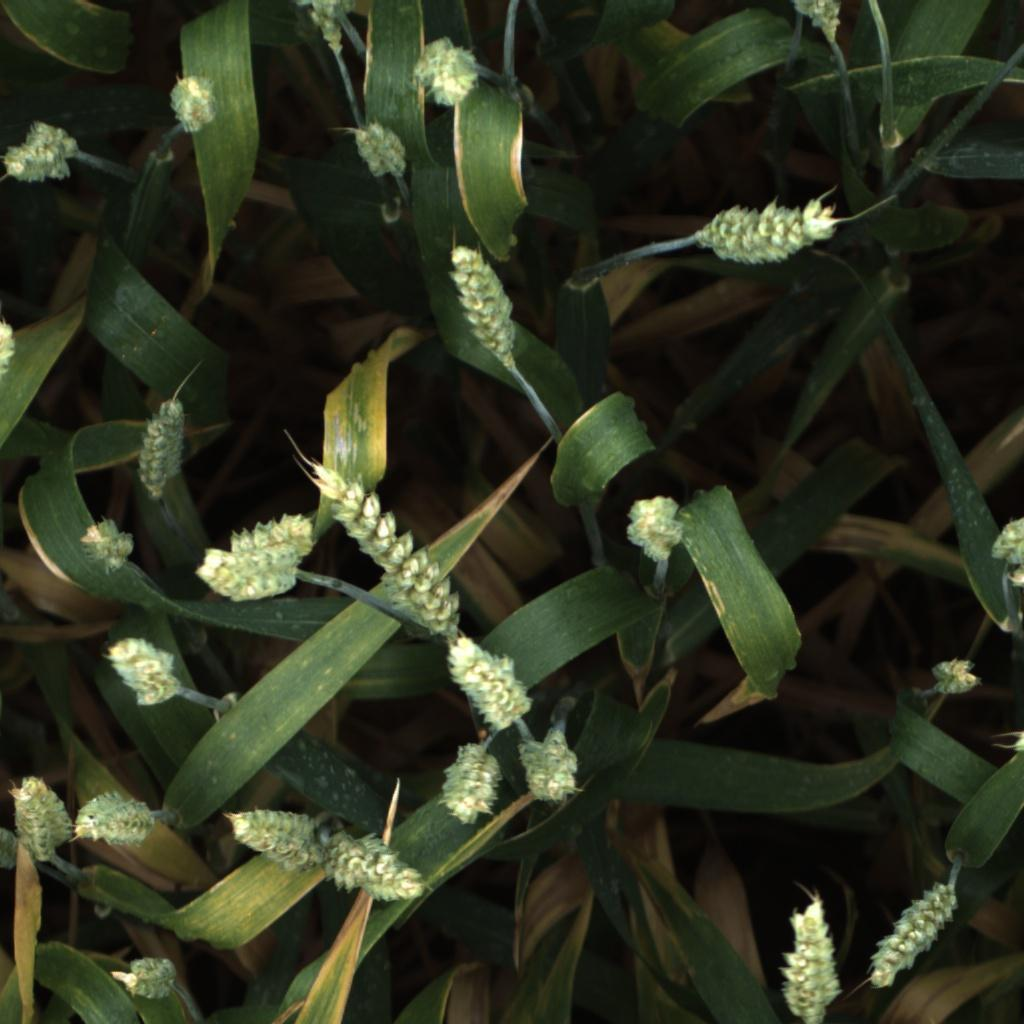0-0: (310, 459, 468, 643), (699, 195, 844, 274), (862, 879, 956, 992), (444, 242, 525, 373), (770, 894, 843, 1024), (442, 637, 537, 726), (323, 831, 432, 906), (224, 802, 341, 871), (128, 390, 194, 497), (191, 545, 300, 606), (5, 772, 77, 862), (100, 635, 183, 711), (436, 739, 506, 827), (0, 116, 84, 186), (411, 34, 484, 112), (71, 788, 166, 847), (619, 492, 690, 565), (224, 511, 317, 566), (111, 948, 181, 1005), (74, 518, 136, 582), (353, 117, 411, 184), (164, 69, 221, 134), (512, 736, 557, 803), (543, 729, 580, 806), (294, 0, 344, 56), (927, 656, 986, 703), (789, 0, 847, 46), (989, 512, 1024, 566), (0, 825, 36, 875), (0, 319, 23, 380), (311, 0, 357, 18), (1006, 563, 1024, 590)
